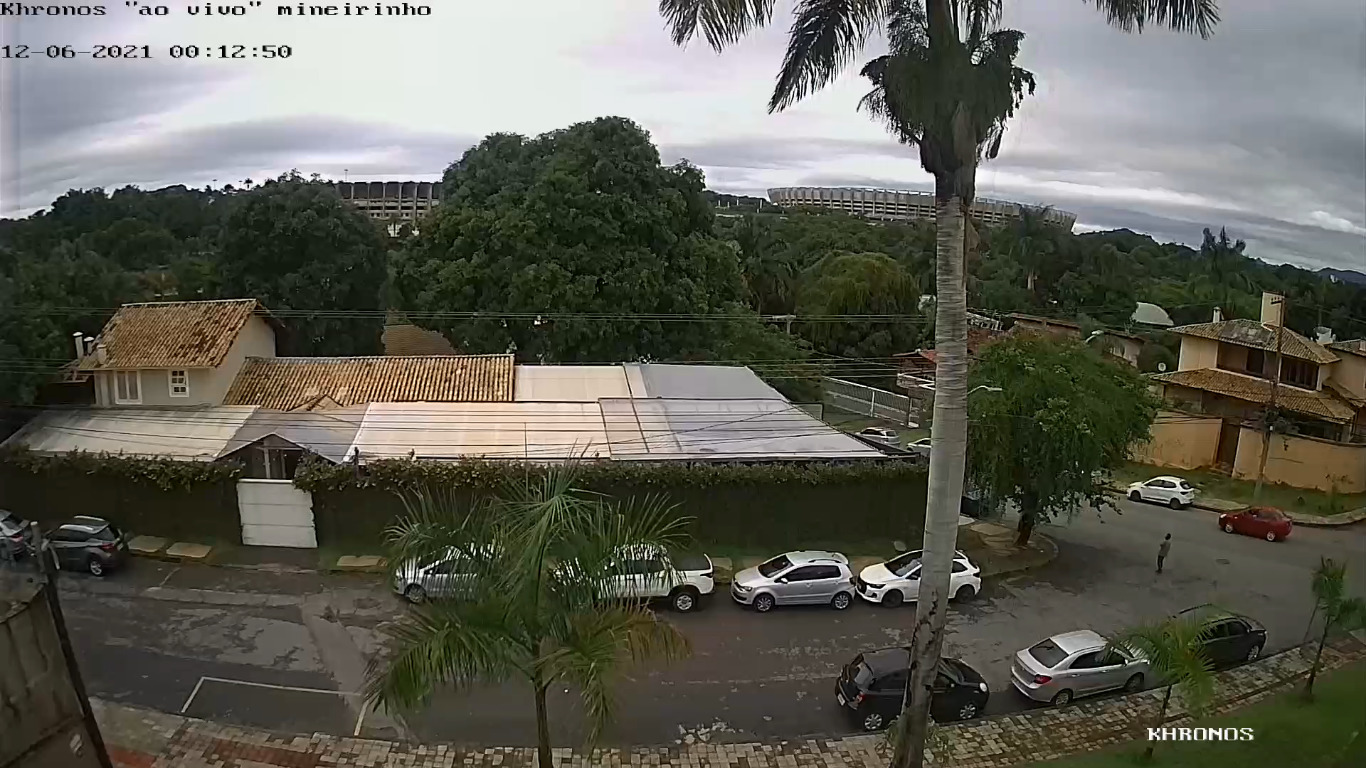car: (834, 648, 988, 732), (548, 541, 715, 611), (1008, 630, 1150, 708), (1155, 604, 1267, 673), (731, 550, 854, 612), (854, 548, 981, 608), (28, 513, 128, 574), (1219, 504, 1294, 542), (1126, 475, 1194, 511)
